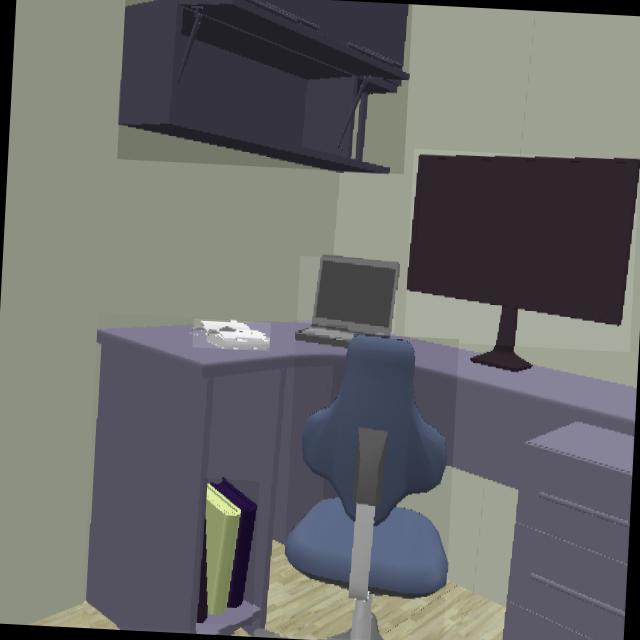book: (197, 480, 258, 623), (193, 322, 270, 351)
chair: (286, 335, 448, 640)
laptop: (296, 257, 398, 347)
monitor: (407, 155, 640, 372)
shelf: (119, 0, 409, 172)
table: (88, 324, 346, 631), (413, 341, 636, 640)
